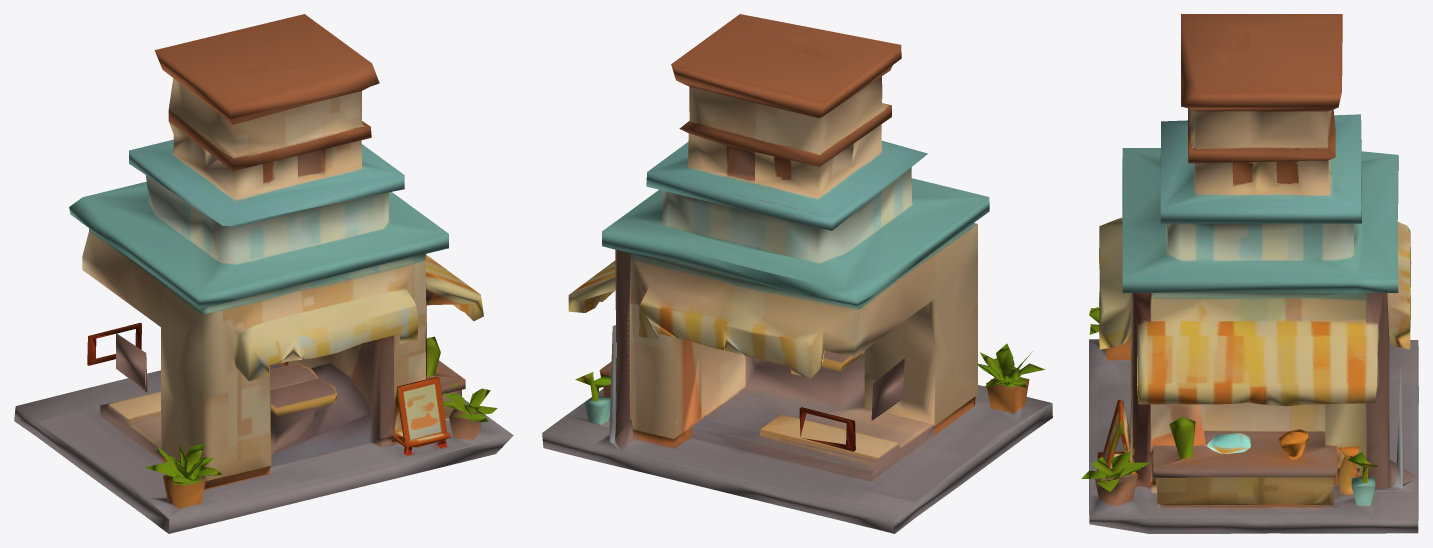
File: low-poly market shop 3d model.glb
3 views of the same model, side by side, from view 1: azimuth 30°, elevation 25°; view 2: azimuth 150°, elevation 25°; view 3: azimuth 270°, elevation 25° (orthographic). The views are drawn at different scales.
Parts seen in each view (by area): view 1: tripo_node_8c978d78-b713-4499-b2d5-0276fb2a9b2d; view 2: tripo_node_8c978d78-b713-4499-b2d5-0276fb2a9b2d; view 3: tripo_node_8c978d78-b713-4499-b2d5-0276fb2a9b2d.
Part boxes in pixels (x1=…): tripo_node_8c978d78-b713-4499-b2d5-0276fb2a9b2d: x1=14, y1=14, x2=513, y2=533; tripo_node_8c978d78-b713-4499-b2d5-0276fb2a9b2d: x1=542, y1=14, x2=1052, y2=533; tripo_node_8c978d78-b713-4499-b2d5-0276fb2a9b2d: x1=1081, y1=14, x2=1418, y2=533.
Size of the model in its own units: 0.9504 by 0.9781 by 0.7573.
Materials: 1 (1 with a texture image).
